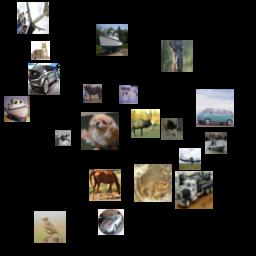airplane: (17, 2, 49, 34), (179, 148, 201, 170), (55, 130, 71, 146)
automobile: (196, 89, 234, 127), (28, 63, 60, 95), (98, 209, 124, 235)
bird: (34, 211, 66, 243)
cat: (31, 41, 50, 60)
deer: (161, 40, 193, 72), (131, 109, 160, 138), (119, 85, 138, 104)
dog: (81, 112, 119, 150), (161, 118, 183, 140)
frog: (134, 164, 172, 202)
ship: (96, 24, 128, 56), (4, 96, 30, 122), (205, 132, 227, 154)
truck: (175, 171, 213, 209)
